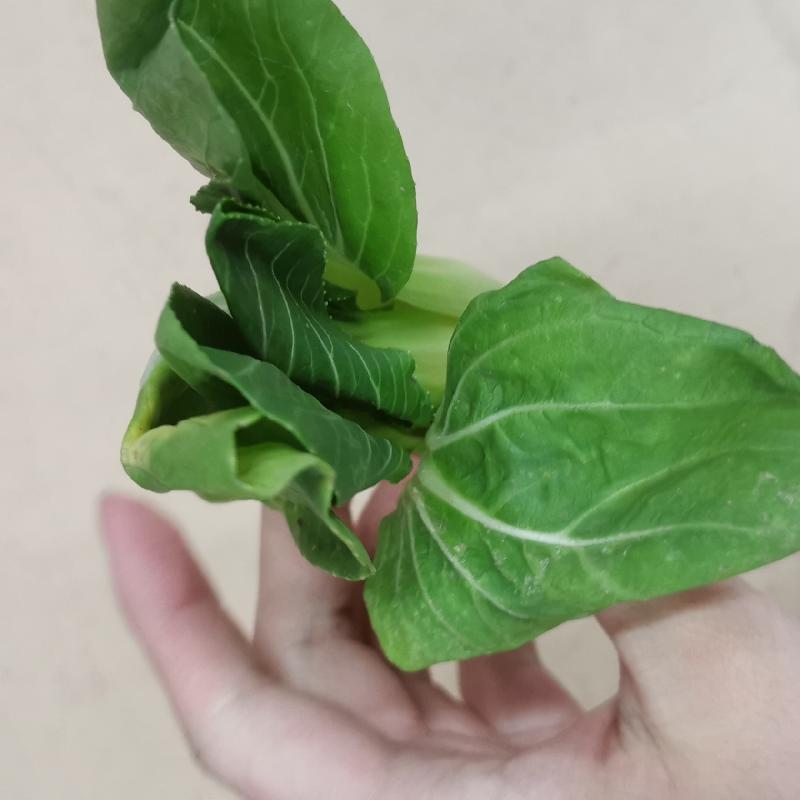green vegatable: (119, 1, 800, 504)
